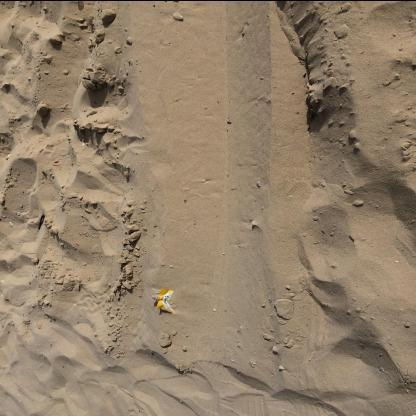plastik: (152, 288, 176, 314)
